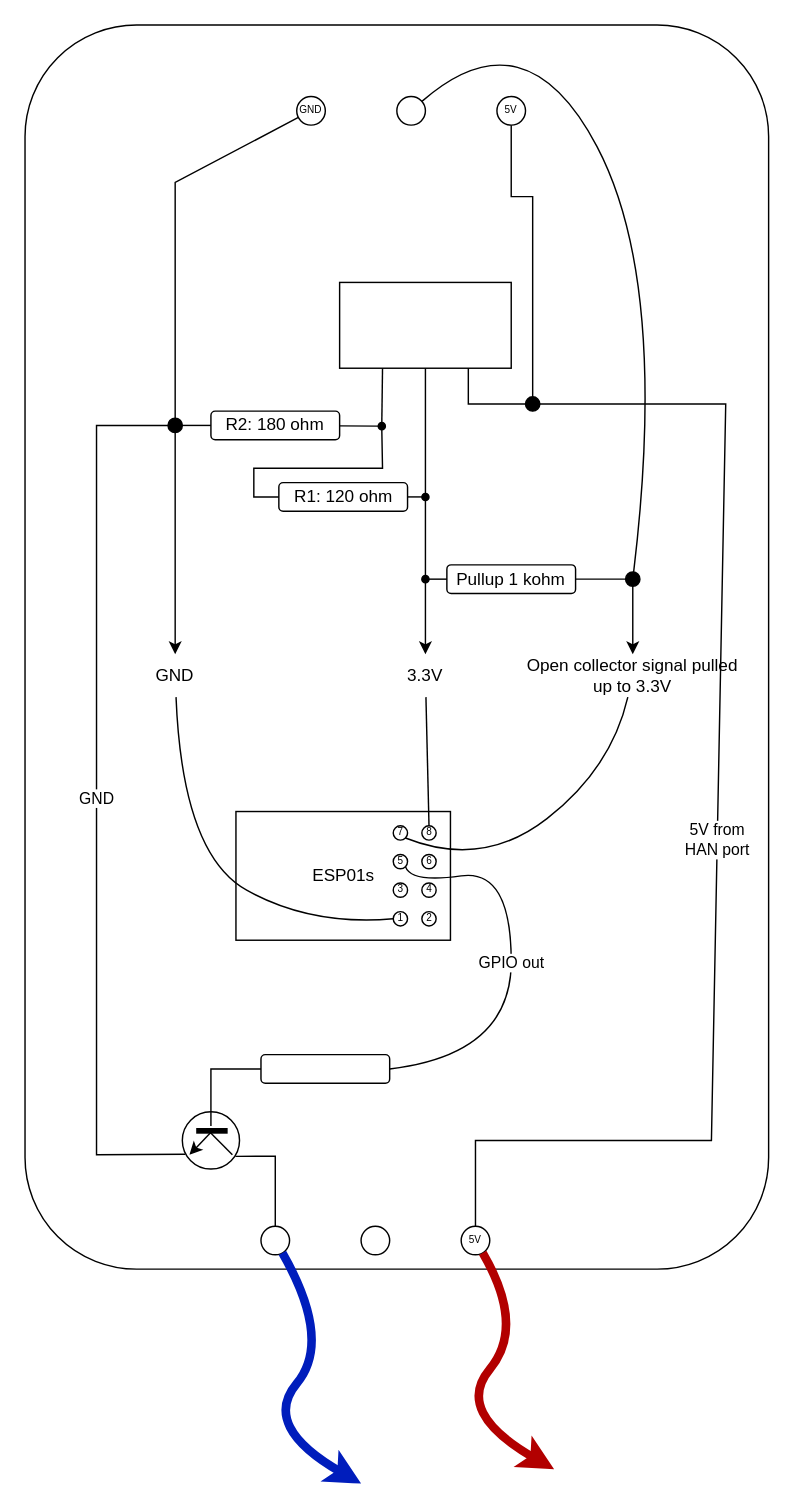
This 794x1509 diagram has some shape labels left out. Here are the shapes that lost their labels. From the top down, the centre of each, then its label:
At (424,324): "LD1117V adj Vout Vin".
At (325,1068): "8.2 kohm".
